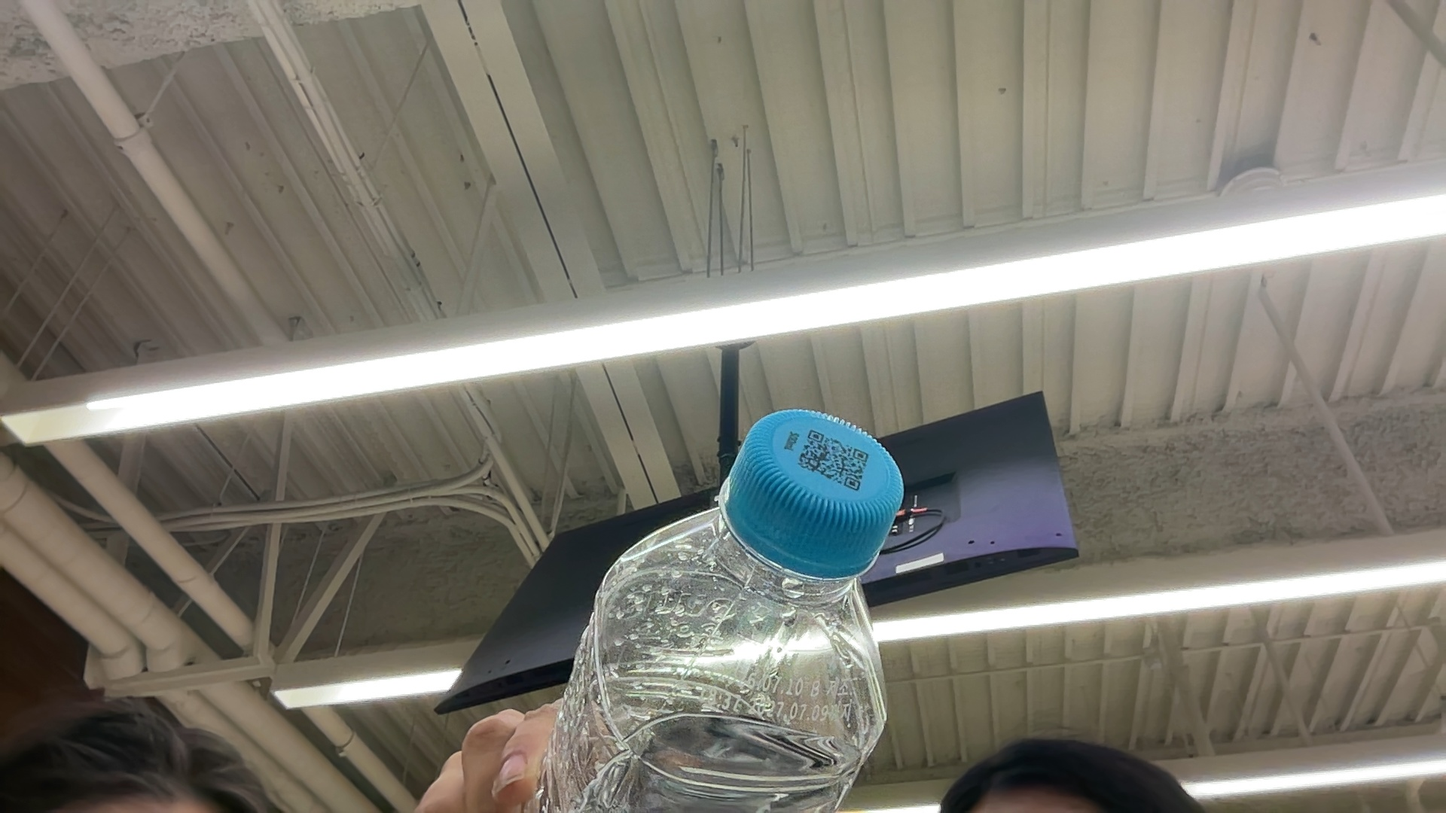Plastic: (725, 408, 906, 584)
